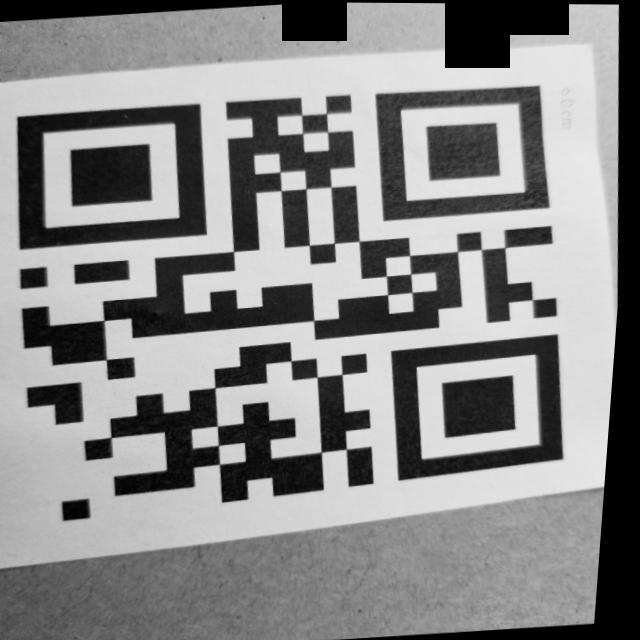QR_CODE: (0, 47, 617, 539)
